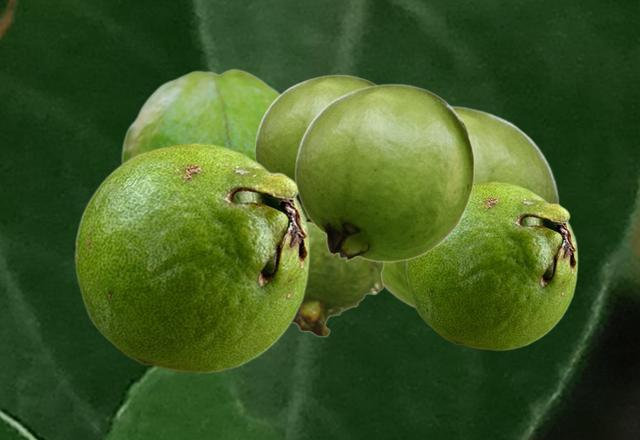guava: (74, 142, 309, 373), (383, 105, 559, 308), (294, 83, 474, 261), (405, 181, 577, 350), (254, 74, 375, 224), (121, 68, 279, 162), (293, 224, 383, 336)
